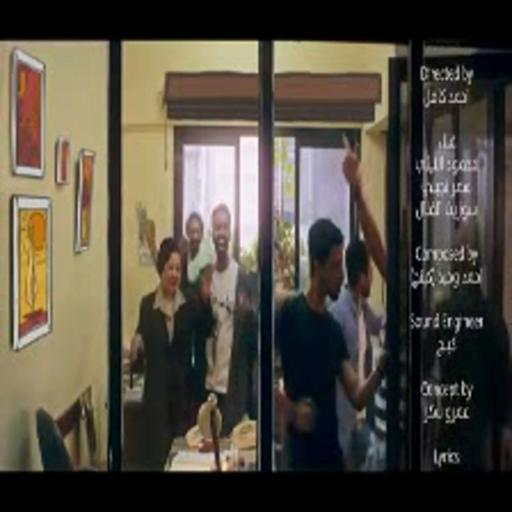nao-violencia: (273, 119, 393, 472), (123, 201, 261, 472)
